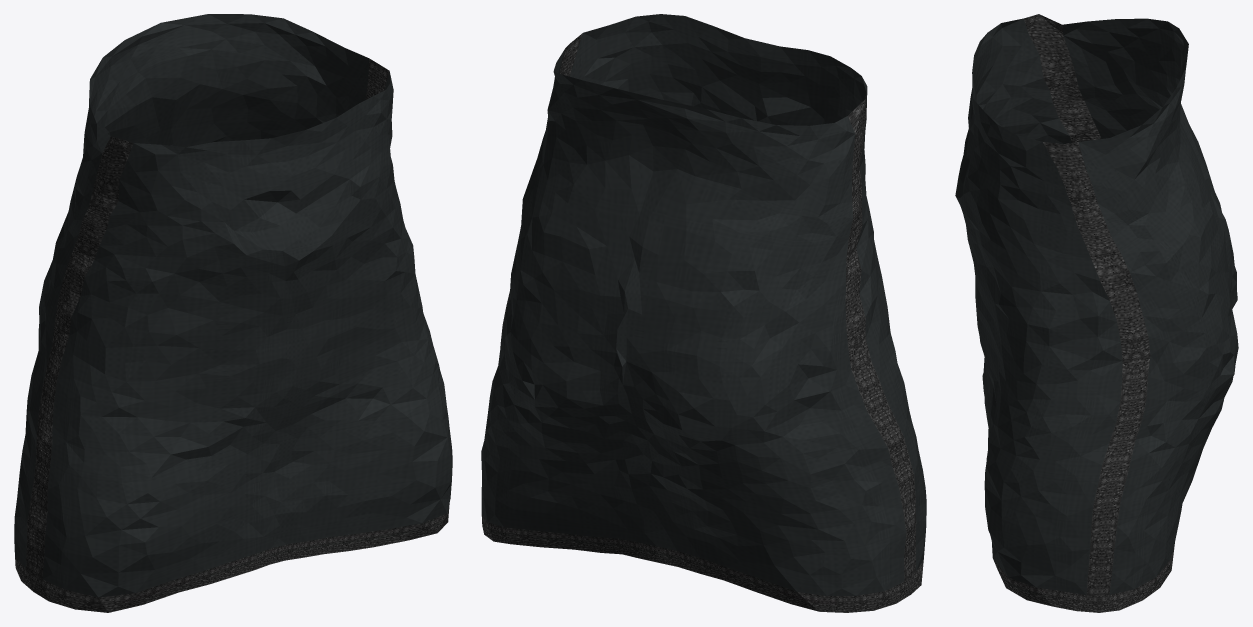
Rendered from mhw_elvs_disco_mini_skirt.glb.
The picture shows the model from 3 angles, left to right: view 1: azimuth 30°, elevation 25°; view 2: azimuth 150°, elevation 25°; view 3: azimuth 270°, elevation 25°; orthographic projection. The views are drawn at different scales.
Parts seen in each view (by area): view 1: mhw_elvs_disco_mini_skirt; view 2: mhw_elvs_disco_mini_skirt; view 3: mhw_elvs_disco_mini_skirt.
Boxes of the visible parts, x1,y1,x2,y2 form: mhw_elvs_disco_mini_skirt: [14, 14, 452, 612]; mhw_elvs_disco_mini_skirt: [481, 14, 926, 612]; mhw_elvs_disco_mini_skirt: [955, 14, 1238, 612].
Size of the model in its own units: 0.4275 by 0.5019 by 0.2744.
1 material, 1 textured.
